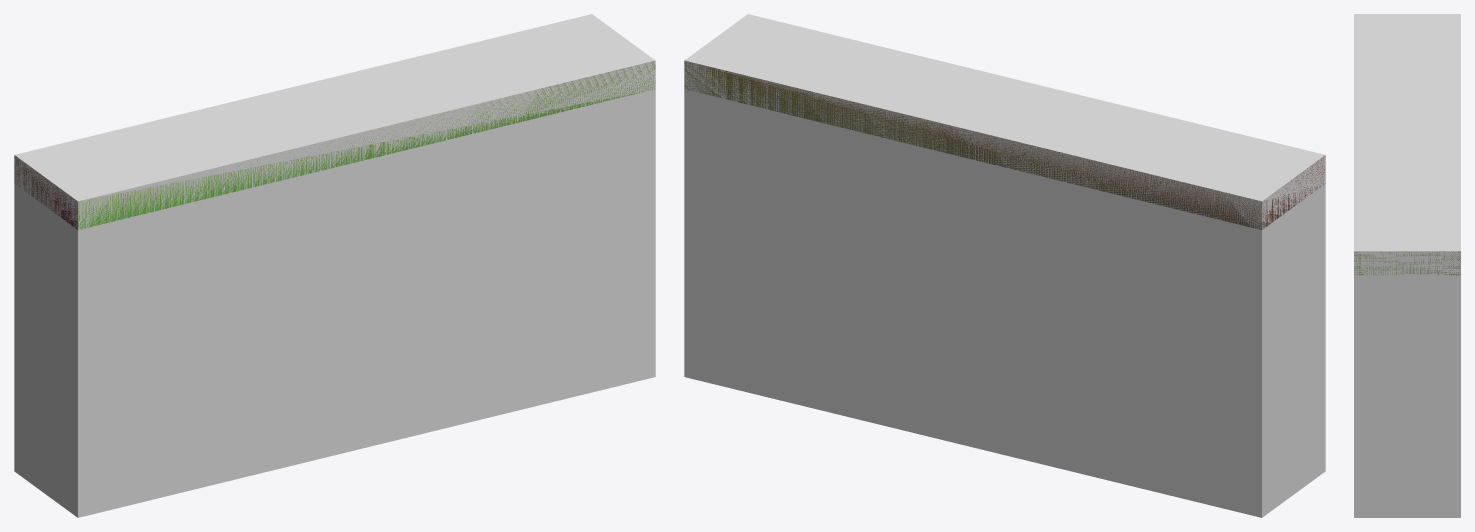
The model's file is lf_fx_world.gltf.
3 views of the same model, side by side, from view 1: azimuth 30°, elevation 25°; view 2: azimuth 150°, elevation 25°; view 3: azimuth 270°, elevation 25° (orthographic). The views are drawn at different scales.
Visible parts, largest first — view 1: lf_fx_world_col, lf_fx_world_coping; view 2: lf_fx_world_col, lf_fx_world_coping; view 3: lf_fx_world_col, lf_fx_world_coping.
Boxes of the visible parts, box(x1,y1,x2,y2) form: lf_fx_world_col: box(14, 14, 655, 517); lf_fx_world_coping: box(14, 61, 655, 229); lf_fx_world_col: box(684, 14, 1325, 517); lf_fx_world_coping: box(684, 61, 1325, 229); lf_fx_world_col: box(1354, 14, 1460, 517); lf_fx_world_coping: box(1354, 251, 1460, 275).
Size of what is drawn, in the model's own units: 2.1 by 1.1 by 0.4.
1 material, 1 textured.
